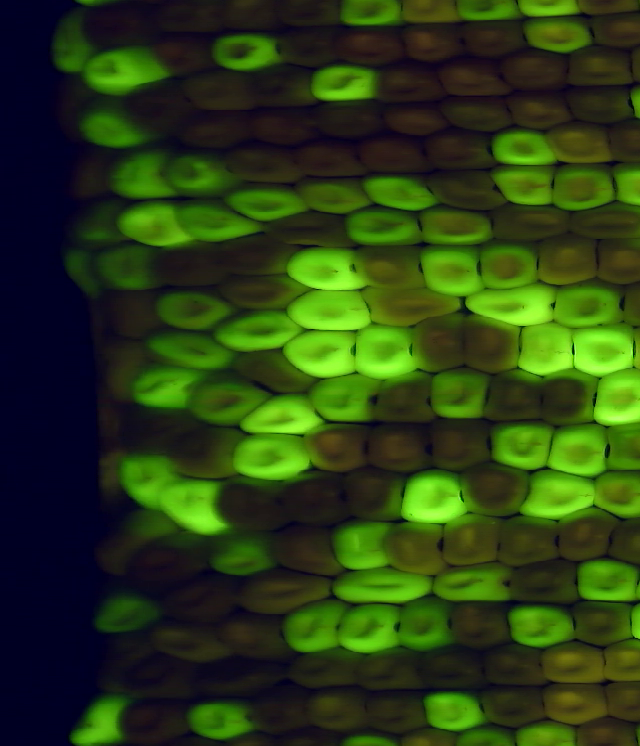fluorescent: (73, 43, 175, 92), (118, 198, 202, 254), (463, 281, 562, 328), (417, 243, 493, 301), (282, 327, 368, 378), (174, 195, 264, 241), (400, 469, 473, 525), (521, 465, 598, 518), (215, 310, 307, 354), (160, 480, 231, 537), (327, 566, 436, 603), (192, 374, 266, 428), (77, 102, 162, 149), (238, 430, 316, 481), (288, 286, 375, 331), (90, 239, 162, 293), (164, 151, 241, 200), (225, 178, 312, 221), (569, 324, 640, 376), (550, 160, 621, 212), (289, 249, 369, 294), (145, 333, 237, 372), (337, 602, 403, 656), (354, 323, 420, 377), (156, 287, 236, 331), (488, 160, 561, 208), (312, 374, 383, 423), (489, 421, 557, 472), (329, 519, 397, 570), (513, 323, 581, 374), (362, 169, 444, 211), (282, 597, 345, 651), (117, 453, 181, 506), (208, 530, 279, 577), (246, 398, 327, 439), (344, 205, 429, 244), (180, 698, 256, 741), (554, 282, 625, 328), (507, 603, 581, 647), (430, 368, 489, 423), (490, 125, 559, 172), (477, 243, 543, 292), (516, 19, 603, 56), (113, 149, 173, 202), (419, 206, 498, 246), (309, 62, 385, 103), (396, 600, 457, 651), (42, 15, 94, 74), (133, 368, 205, 410), (209, 31, 282, 72), (551, 425, 608, 477), (300, 174, 375, 213), (574, 560, 640, 604), (438, 565, 512, 602), (420, 692, 489, 731), (74, 698, 130, 746), (595, 370, 640, 425), (64, 246, 108, 302), (78, 200, 131, 246), (96, 594, 162, 630), (593, 470, 640, 517), (338, 1, 411, 30), (605, 421, 640, 470), (610, 158, 640, 210), (515, 722, 572, 746), (455, 1, 522, 21), (510, 1, 585, 18), (457, 728, 516, 746), (339, 732, 392, 746), (68, 1, 119, 10)
nonfluorescent: (104, 506, 177, 577), (359, 284, 463, 328), (234, 571, 337, 613), (126, 536, 210, 587), (363, 419, 440, 473), (212, 479, 289, 533), (189, 657, 288, 699), (167, 426, 250, 476), (274, 522, 346, 579), (351, 243, 434, 292), (234, 350, 317, 398), (462, 311, 523, 374), (537, 366, 600, 427), (218, 612, 294, 662), (458, 465, 532, 516), (557, 507, 624, 563), (157, 577, 239, 622), (496, 511, 561, 567), (484, 367, 550, 422), (154, 244, 231, 291), (381, 522, 449, 575), (410, 315, 471, 373), (534, 232, 598, 287), (78, 6, 165, 46), (441, 514, 506, 567), (223, 236, 300, 280), (127, 83, 192, 135), (128, 653, 200, 699), (304, 422, 371, 471), (261, 212, 349, 249), (449, 599, 514, 649), (507, 563, 582, 606), (375, 60, 444, 106), (432, 419, 493, 471), (100, 289, 166, 337), (546, 117, 615, 162), (301, 688, 370, 733), (215, 276, 309, 309), (127, 407, 193, 454), (336, 23, 406, 67), (571, 599, 636, 646), (344, 472, 405, 522), (418, 648, 487, 692), (153, 622, 230, 661), (126, 699, 191, 745), (567, 45, 636, 88), (429, 171, 505, 210), (354, 647, 422, 690), (225, 146, 306, 182), (100, 339, 146, 402), (276, 479, 350, 518), (399, 19, 466, 62), (483, 684, 550, 727), (376, 376, 437, 423), (181, 70, 254, 109), (435, 62, 513, 97), (540, 683, 610, 722), (247, 106, 320, 143), (359, 136, 436, 171), (483, 644, 548, 685), (366, 690, 431, 731), (58, 74, 97, 142), (311, 97, 383, 133), (296, 141, 366, 178), (493, 205, 569, 239), (152, 33, 218, 72), (538, 645, 607, 682), (273, 26, 340, 64), (462, 19, 529, 57), (440, 96, 512, 131), (66, 149, 116, 199), (502, 52, 570, 88), (380, 98, 448, 134), (290, 653, 363, 686), (591, 236, 640, 285), (254, 66, 315, 105), (564, 205, 640, 236), (428, 134, 495, 169), (249, 692, 302, 736), (508, 93, 573, 128), (155, 1, 228, 32), (567, 87, 636, 119), (183, 113, 251, 145), (219, 1, 290, 31), (275, 1, 345, 28), (578, 716, 640, 746), (101, 632, 155, 664), (607, 516, 640, 565), (605, 117, 640, 163), (605, 682, 640, 726), (399, 1, 462, 25), (590, 16, 640, 44), (605, 642, 640, 682), (401, 726, 458, 746), (286, 728, 344, 746), (579, 1, 640, 18)
